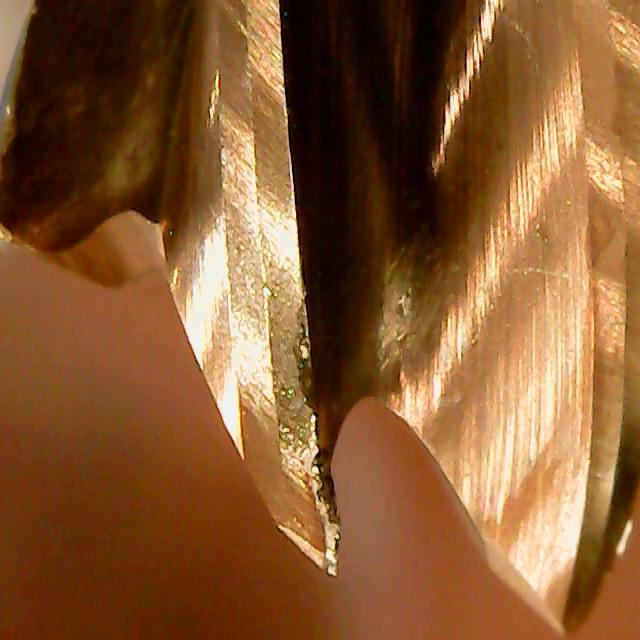Tool-wear-class-1: (219, 275, 357, 581)
